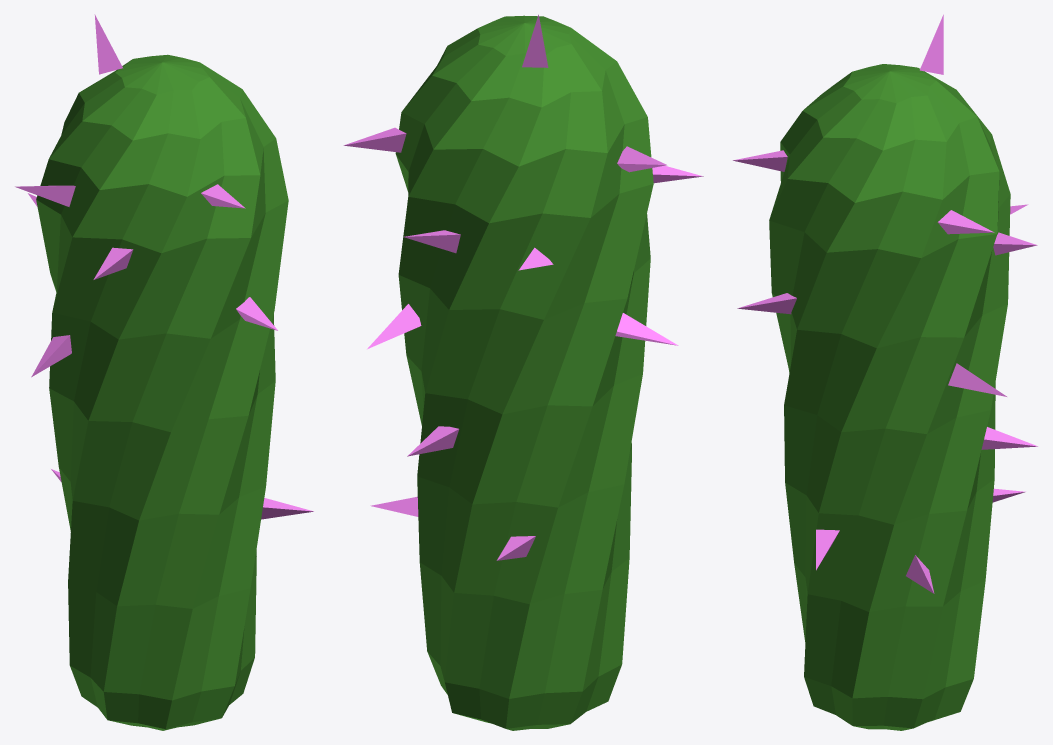
Rendered from Cactus_16_B.fbx.
3 renders of one model, left to right at view 1: azimuth 30°, elevation 25°; view 2: azimuth 150°, elevation 25°; view 3: azimuth 270°, elevation 25°, orthographic. The views are drawn at different scales.
Visible parts, largest first — view 1: Cactus_16_B; view 2: Cactus_16_B; view 3: Cactus_16_B.
Boxes of the visible parts, box(x1,y1,x2,y2) form: Cactus_16_B: box(15, 14, 313, 730); Cactus_16_B: box(343, 14, 703, 730); Cactus_16_B: box(732, 14, 1038, 730).
Size of the model in its own units: 74.04 by 184 by 75.17.
